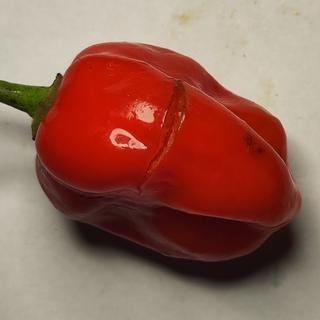striped: (137, 78, 191, 189)
